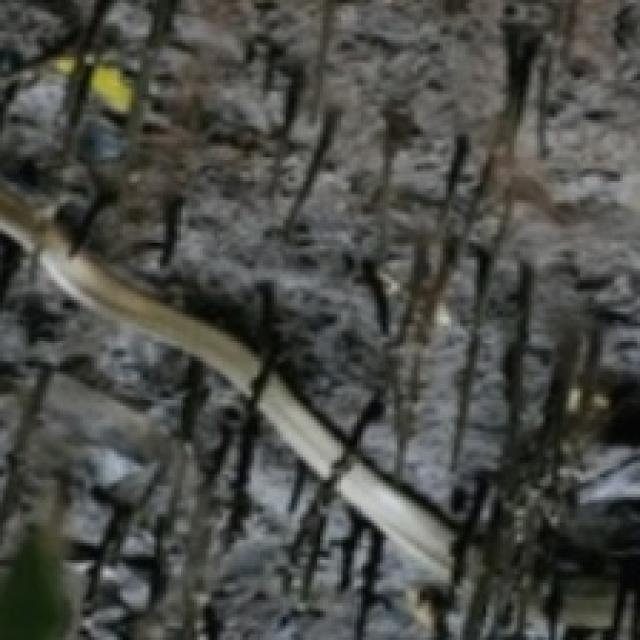king cobra: (0, 0, 637, 637), (337, 451, 454, 586), (257, 369, 349, 480)
